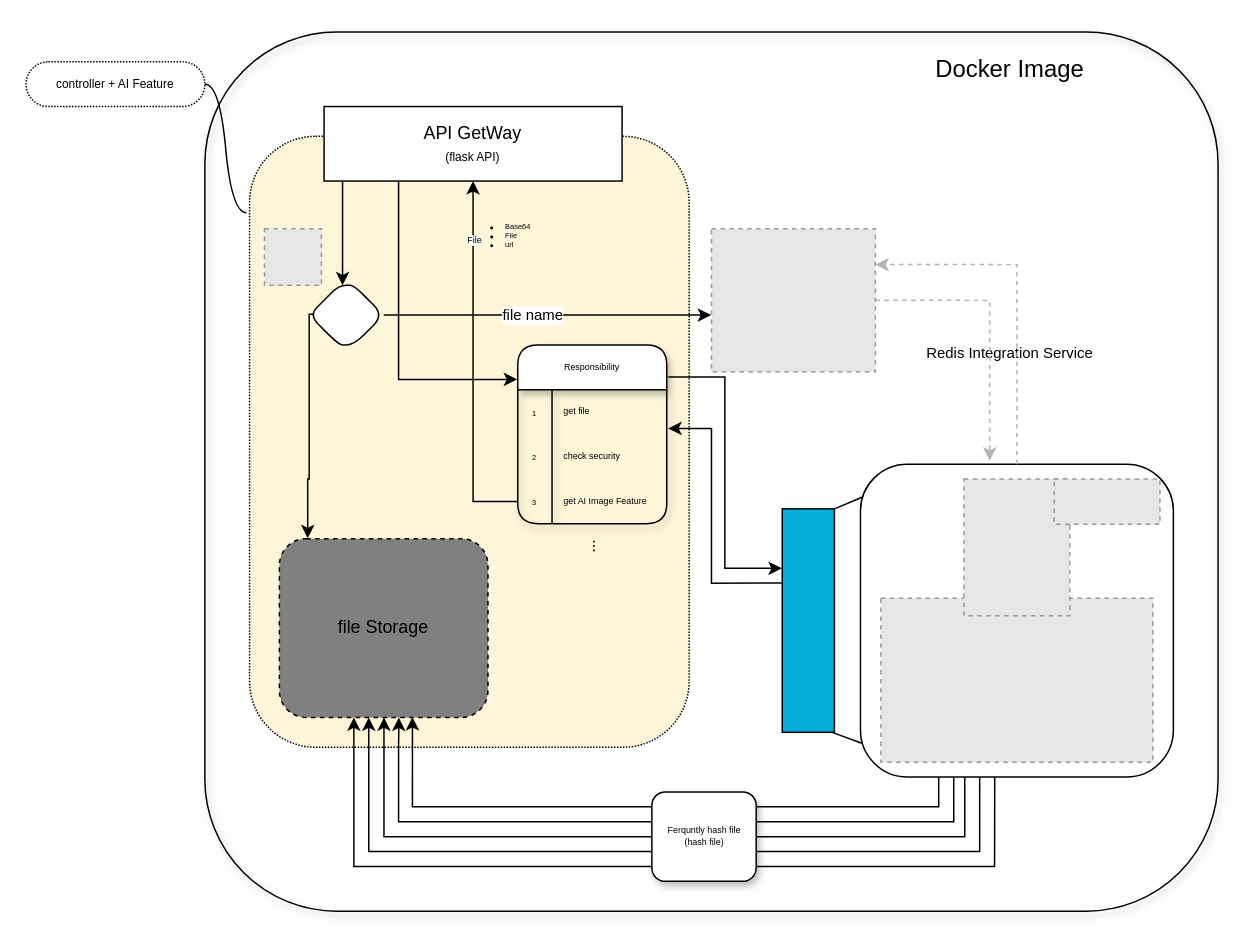
Image size: 1253x948. Some labels were removed from this diagram. Grey dashed boxes stand in for pictures. The shapes that lost their labels are listed below. From the top down, each one's centre as x and y in pixels, then its label:
At (x=346, y=314): "rename".
At (x=807, y=619): "GO Core API".
